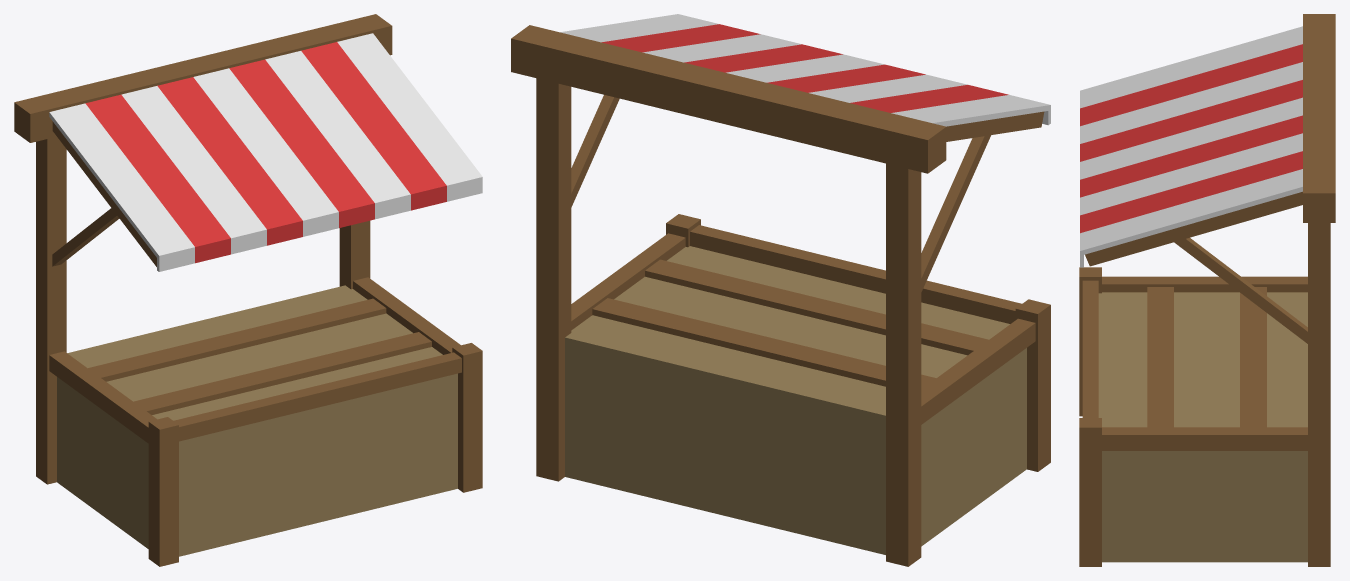
File: Market_stall_1_2.fbx
3 renders of one model, left to right at view 1: azimuth 30°, elevation 25°; view 2: azimuth 150°, elevation 25°; view 3: azimuth 270°, elevation 25°, orthographic. The views are drawn at different scales.
Parts seen in each view (by area): view 1: Market_stall_1_2; view 2: Market_stall_1_2; view 3: Market_stall_1_2.
Part boxes in pixels (<box>): Market_stall_1_2: <box>14,14,482,566</box>; Market_stall_1_2: <box>511,14,1050,566</box>; Market_stall_1_2: <box>1079,14,1335,566</box>.
Bounding box in the file's own units: 92.18 × 91.77 × 55.64.
